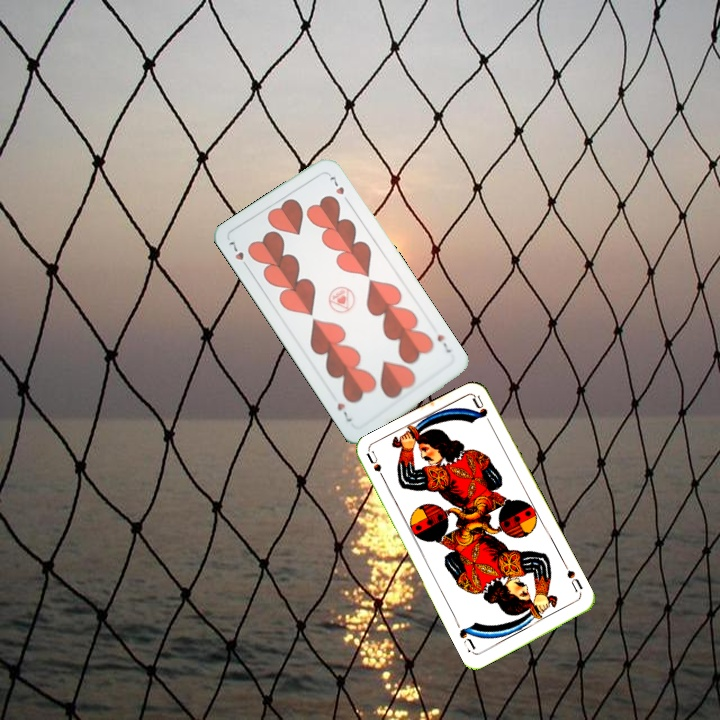H7: (225, 237, 252, 272), (433, 331, 454, 355)
SU: (363, 448, 390, 487), (560, 560, 586, 598)
